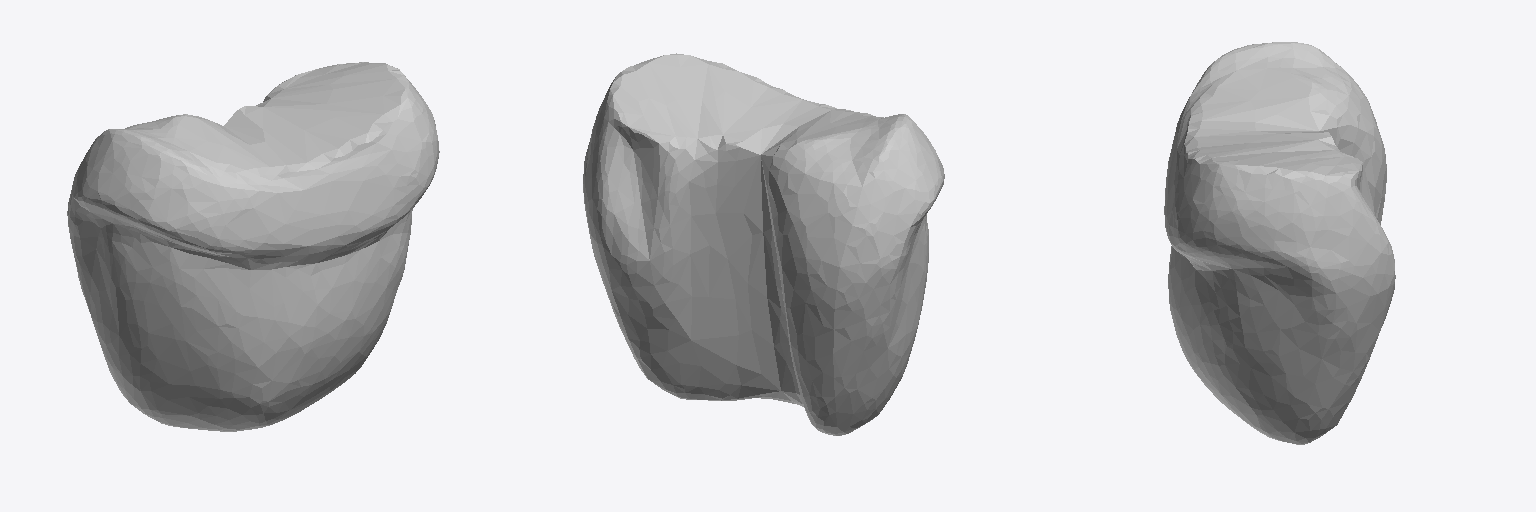
File: intestine.obj
3 views of the same model, side by side, from view 1: azimuth 30°, elevation 25°; view 2: azimuth 150°, elevation 25°; view 3: azimuth 270°, elevation 25° (orthographic).
Visible parts, largest first — view 1: intestinc_Default.001; view 2: intestinc_Default.001; view 3: intestinc_Default.001.
Boxes of the visible parts, x1,y1,x2,y2 form: intestinc_Default.001: [67, 62, 439, 431]; intestinc_Default.001: [583, 53, 944, 435]; intestinc_Default.001: [1164, 42, 1395, 444].
Bounding box in the file's own units: 0.2296 × 0.2014 × 0.1375.